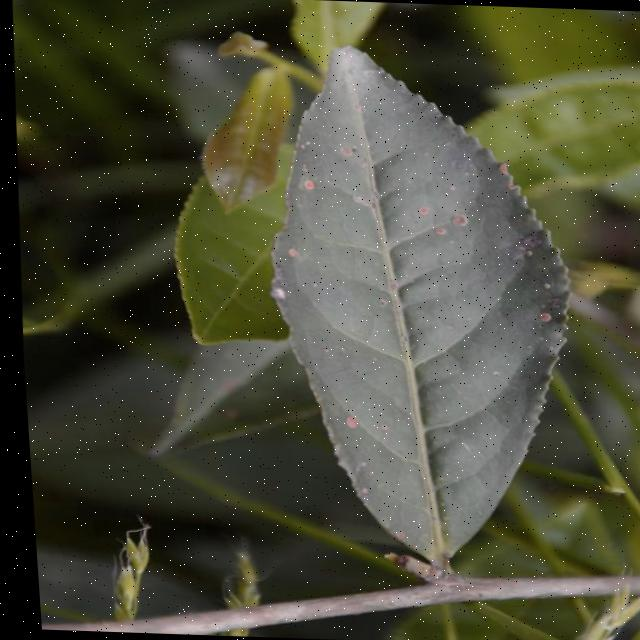Tea algae leaf spot: (254, 92, 557, 540)
